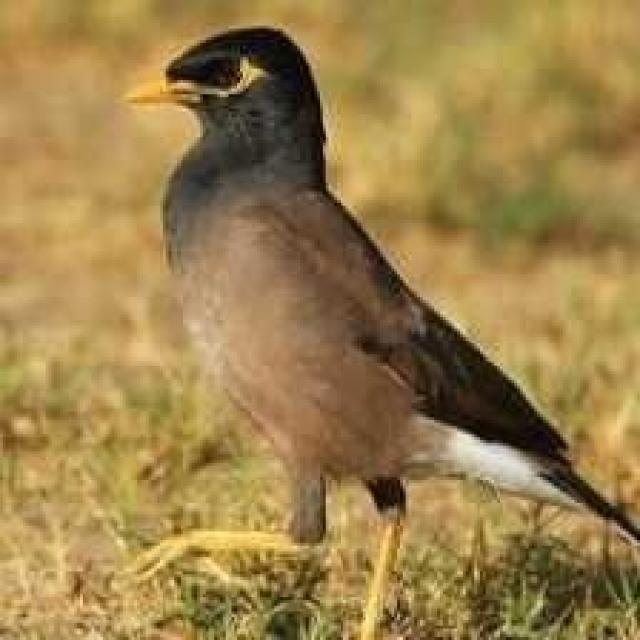bird: (117, 10, 640, 640)
